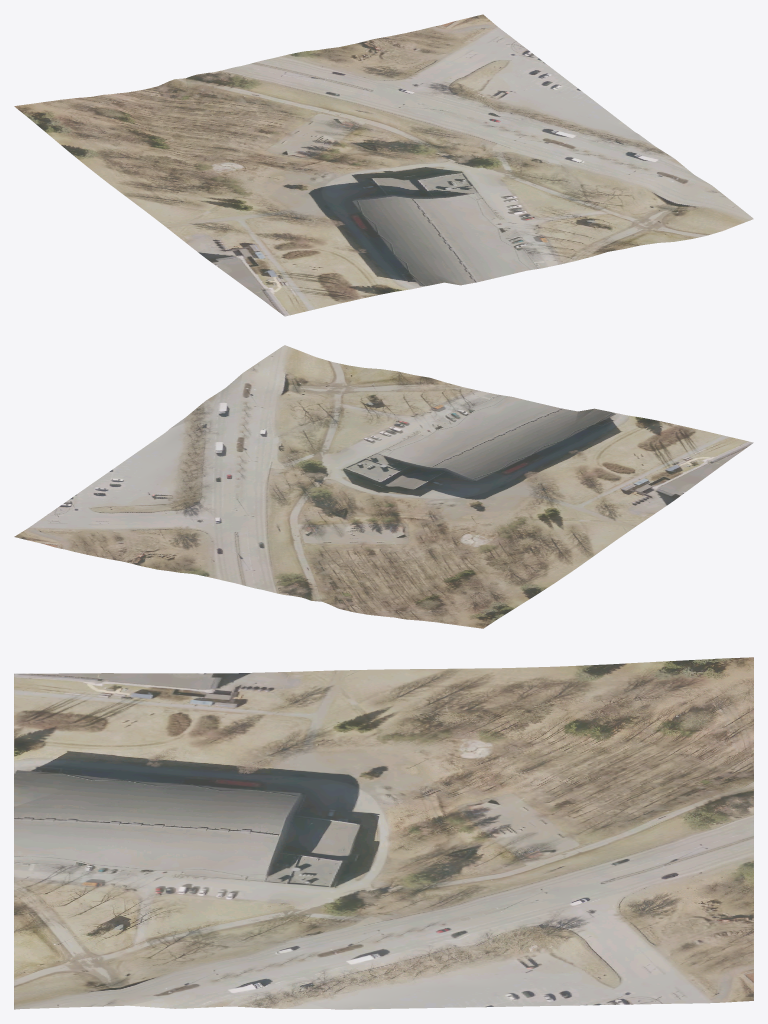
The model's file is CM_Terrain_24490254_6820613.fbx.
3 views of the same model, one above another, from view 1: azimuth 30°, elevation 25°; view 2: azimuth 150°, elevation 25°; view 3: azimuth 270°, elevation 25° (orthographic). The views are drawn at different scales.
Visible parts, largest first — view 1: CM_Terrain_24490254_6820613_LOD0; view 2: CM_Terrain_24490254_6820613_LOD0; view 3: CM_Terrain_24490254_6820613_LOD0.
Boxes of the visible parts, x1,y1,x2,y2 form: CM_Terrain_24490254_6820613_LOD0: (14,14,753,316); CM_Terrain_24490254_6820613_LOD0: (14,345,753,628); CM_Terrain_24490254_6820613_LOD0: (14,657,753,1009).
Size of what is drawn, in the model's own units: 205 by 14.43 by 205.
